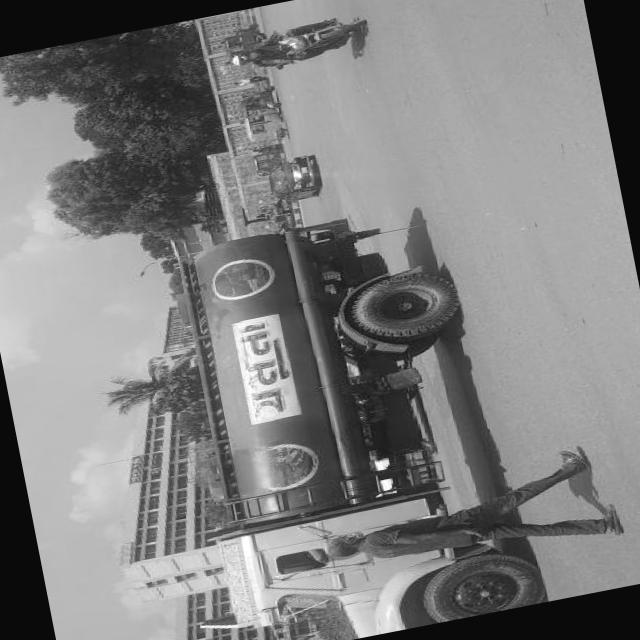car: (262, 152, 322, 206)
motorcycle: (264, 11, 373, 72), (242, 101, 290, 146), (220, 22, 264, 57), (250, 143, 288, 178), (236, 86, 279, 116)
truck: (151, 192, 543, 640)
